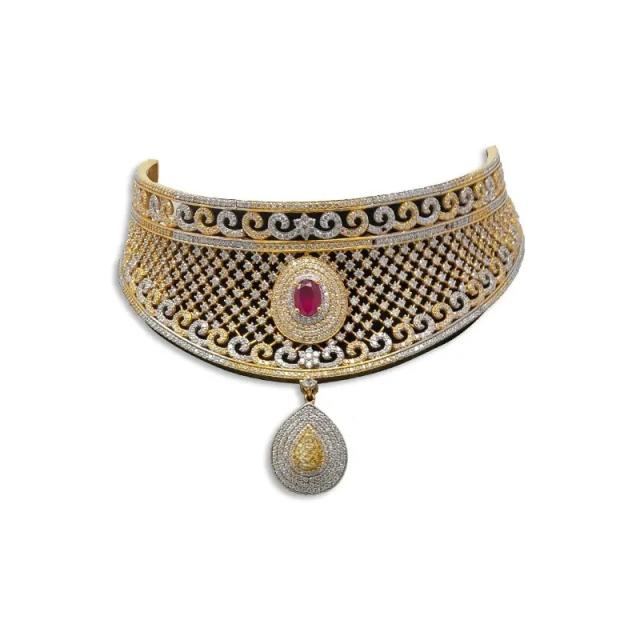missing gem: (294, 429, 324, 471)
